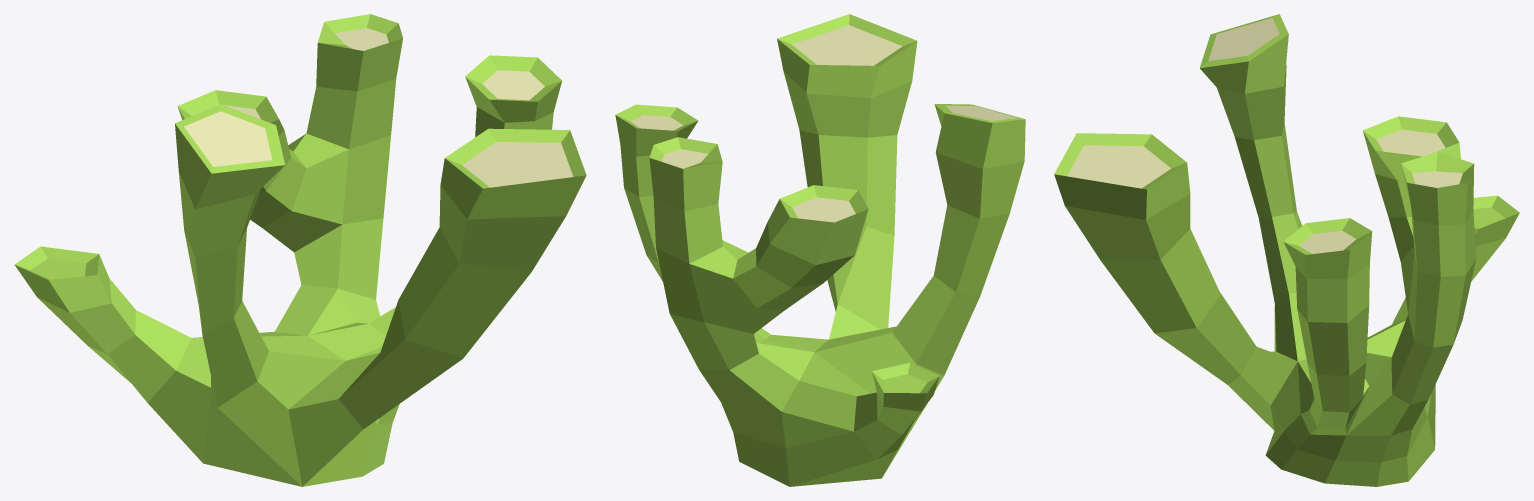
Rendered from SeaObj02.fbx.
3 renders of one model, left to right at view 1: azimuth 30°, elevation 25°; view 2: azimuth 150°, elevation 25°; view 3: azimuth 270°, elevation 25°, orthographic. The views are drawn at different scales.
Parts seen in each view (by area): view 1: Coral.003; view 2: Coral.003; view 3: Coral.003.
Part boxes in pixels (bbox=[...]): Coral.003: bbox=[14, 14, 586, 486]; Coral.003: bbox=[615, 14, 1025, 486]; Coral.003: bbox=[1054, 14, 1519, 486].
Bounding box in the file's own units: 200 × 174 × 198.
